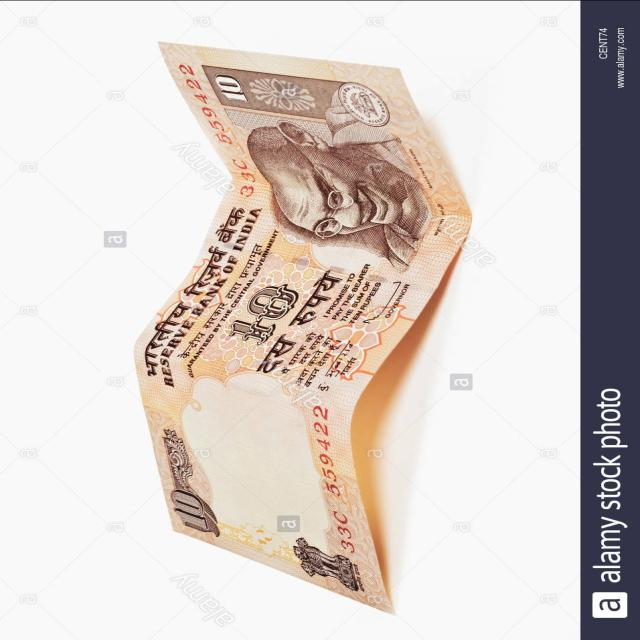10IndianRupees: (142, 49, 477, 599)
